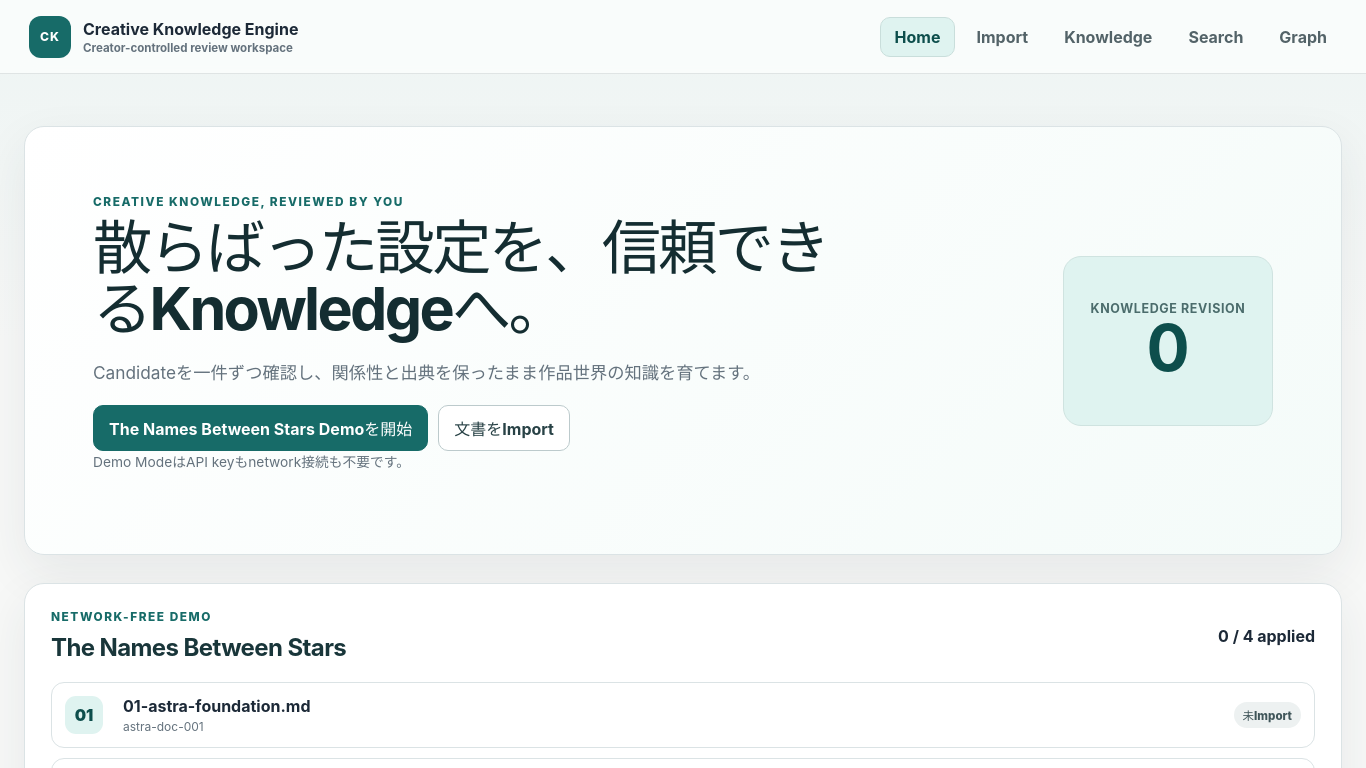
Scenario: App › navigates to Import and exposes Live AI consent
Check: the heading "散らばった設定を、信頼できるKnowledgeへ。" is shown, box [93, 218, 873, 340]
Click the button "文書をImport".
click(504, 428)  # box [438, 405, 570, 451]
(page scrolled)
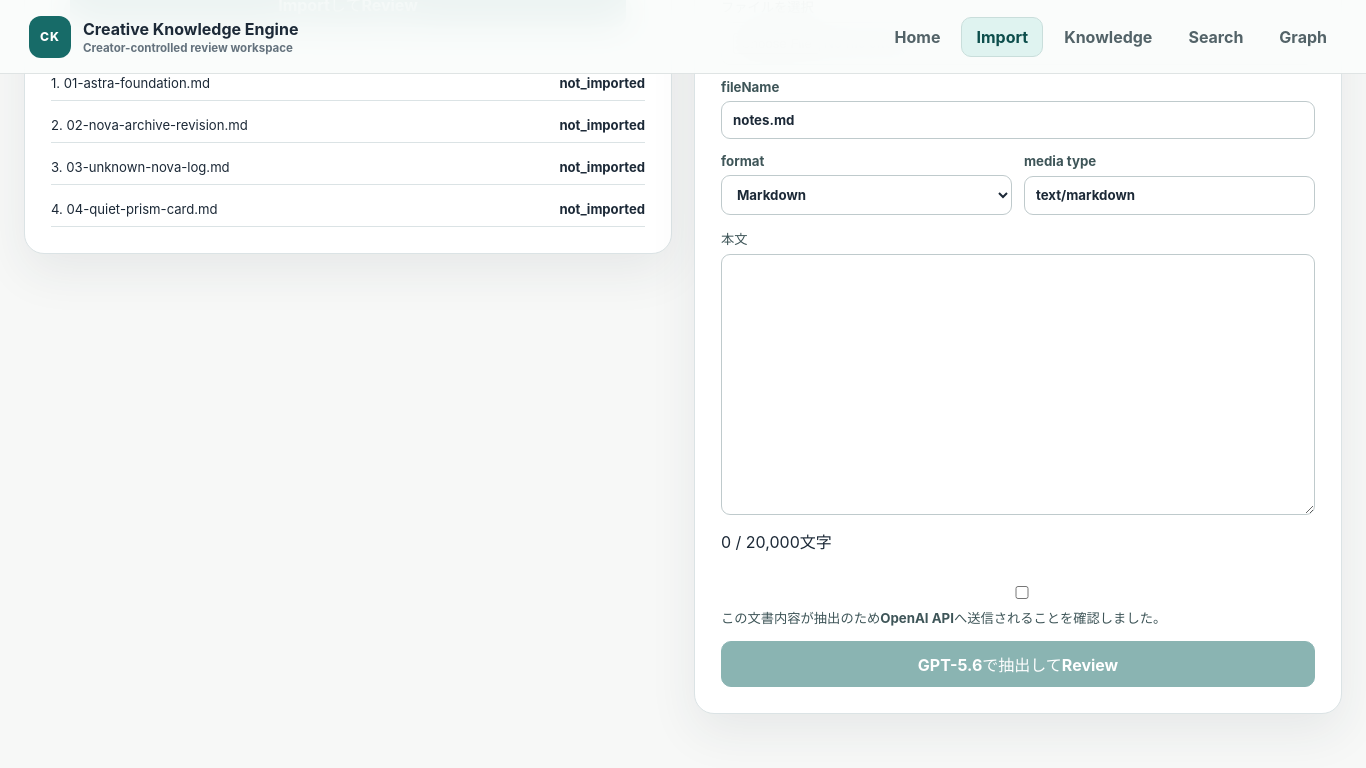
Check: the checkbox is not checked, box [725, 586, 1319, 599]
Check: the text box labelled "本文" is shown, box [721, 254, 1315, 515]
